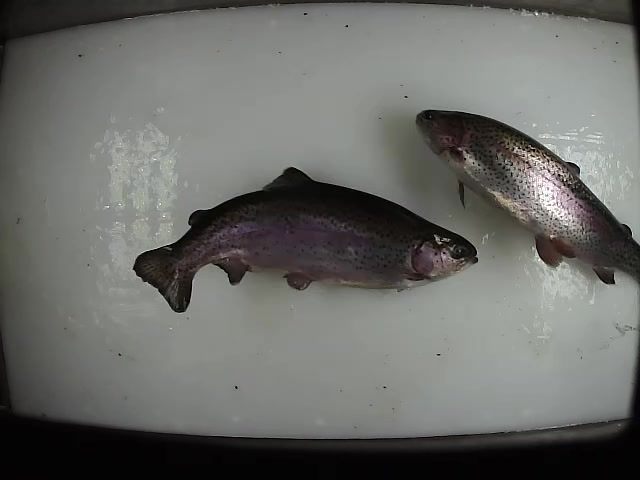fish: (131, 166, 480, 316), (415, 107, 640, 291)
